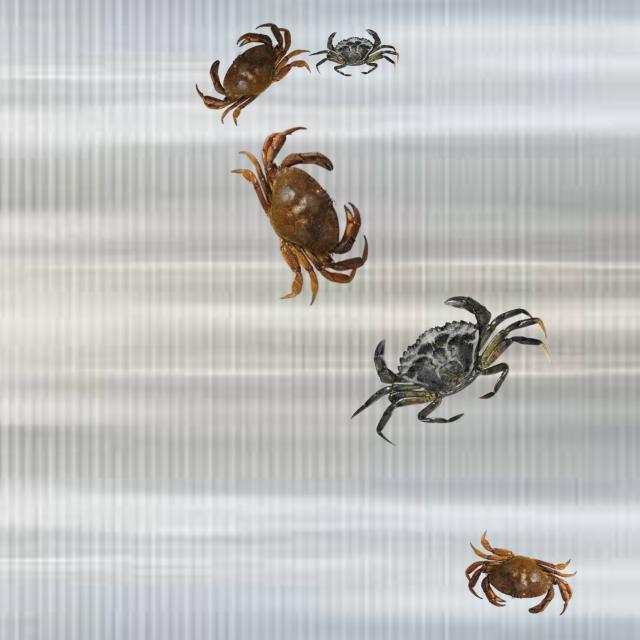European_Green_Crab: (323, 263, 564, 469), (306, 27, 401, 80)
